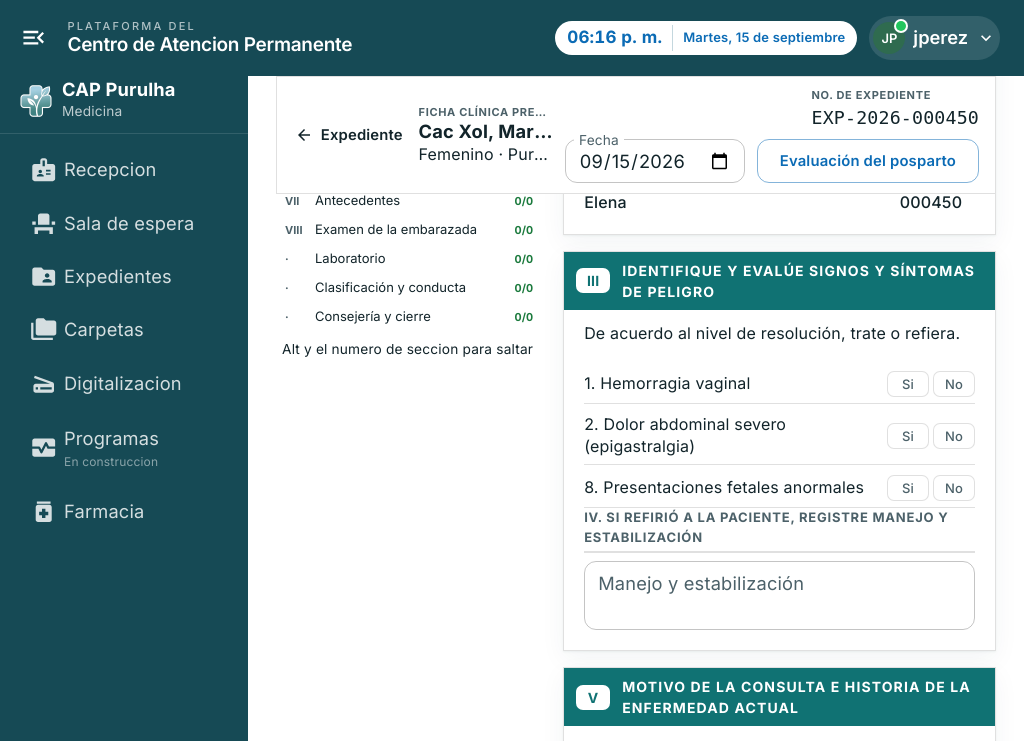
it: la hoja prenatal › trae los signos de peligro del embarazo y avisa al marcar uno
This screenshot has width=1024, height=741.
(page scrolled)
Expected: the text "1. Hemorragia vaginal" is shown, [584,373,750,395]
Expected: the text "8. Presentaciones fetales anormales" is shown, [584,477,864,499]
# El selector es un grupo de radios rotulado con el texto del papel.
Click the radio button labelled "Si" next to "1. Hemorragia vaginal" at {"x": 908, "y": 384}, box [887,371,929,398]
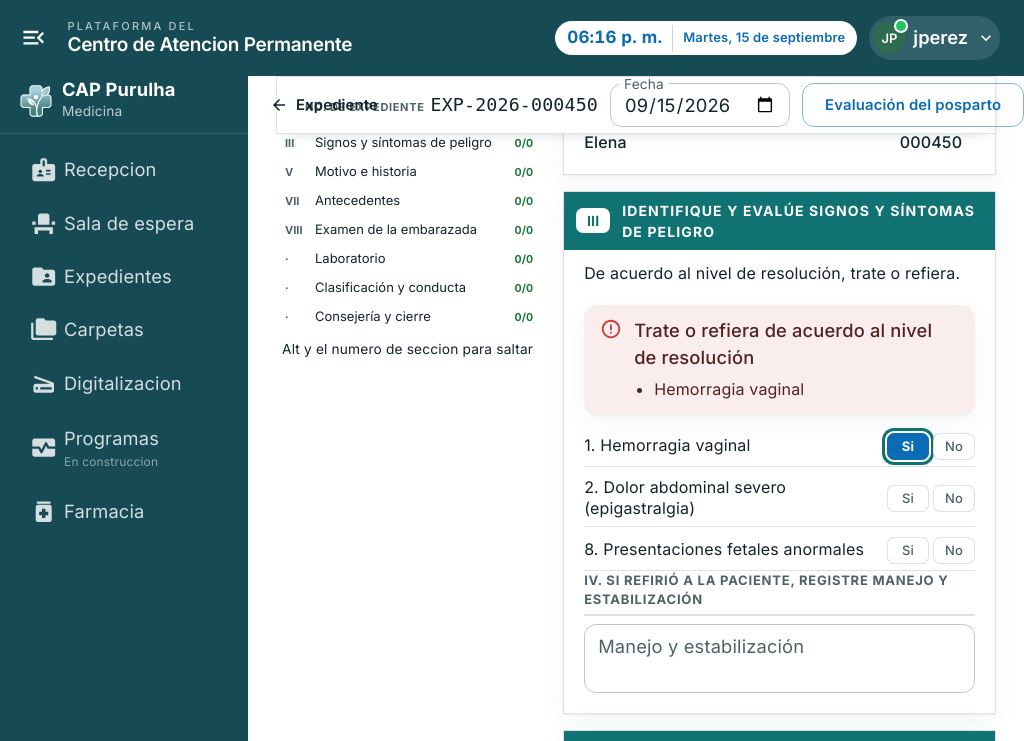
Expected: the text "Trate o refiera de acuerdo al nivel de resolución" is shown, [634,317,959,372]
